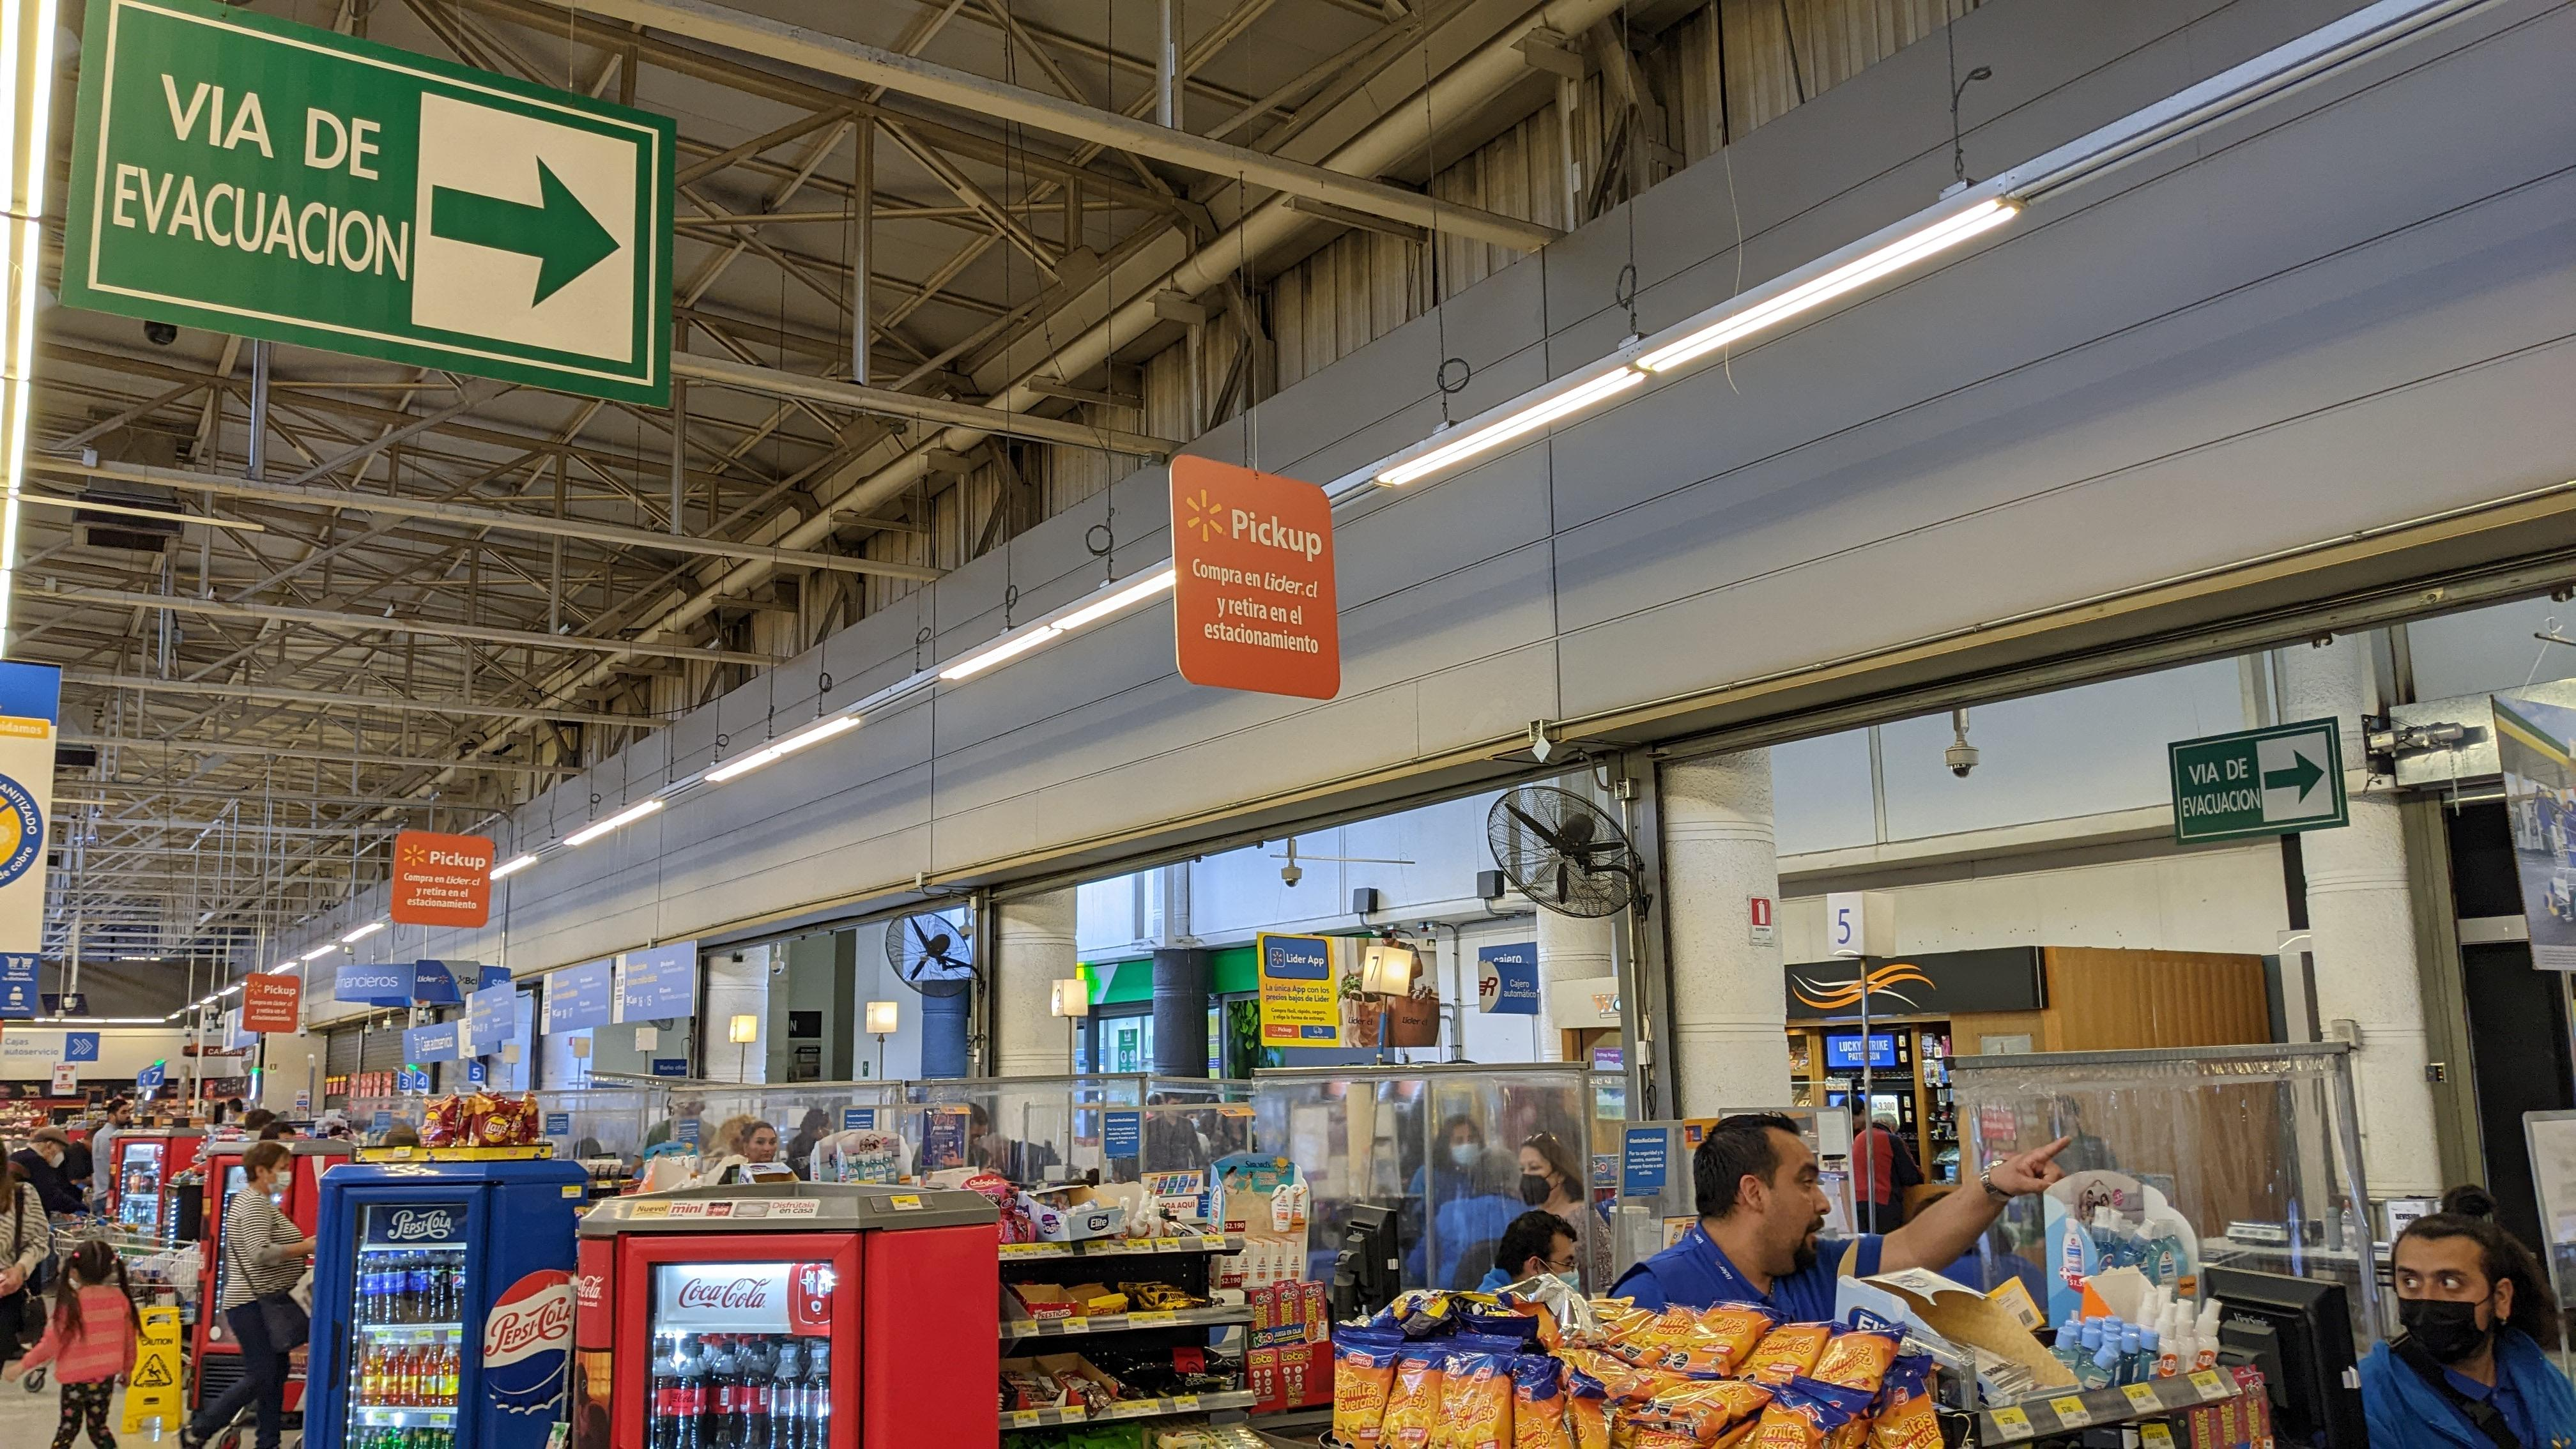emergency right arrow: (425, 149, 626, 320), (2259, 747, 2330, 805)
